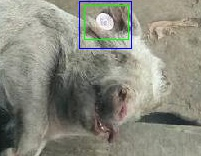text: (84, 5, 128, 39)
